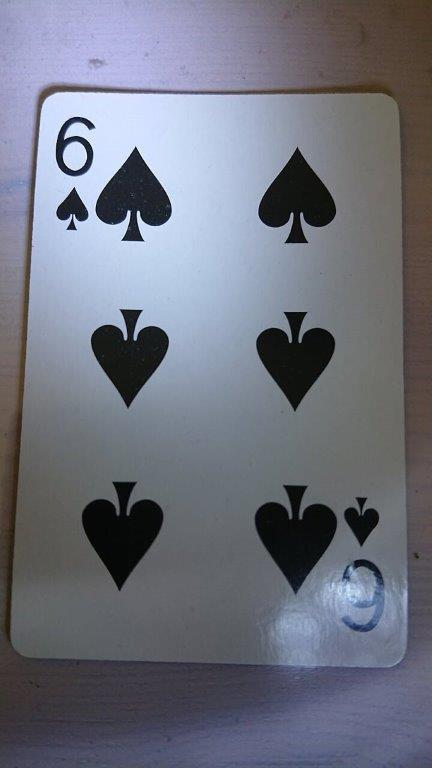6S: (6, 89, 411, 671)
